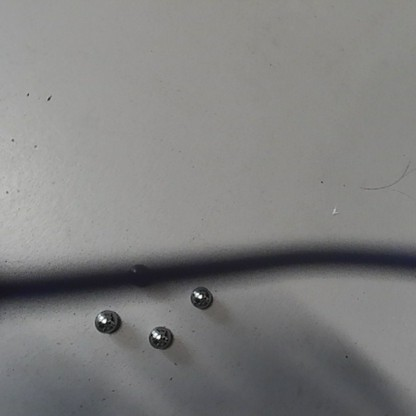ironball: (149, 324, 171, 350), (126, 263, 149, 286), (189, 285, 211, 309), (94, 310, 117, 332)
